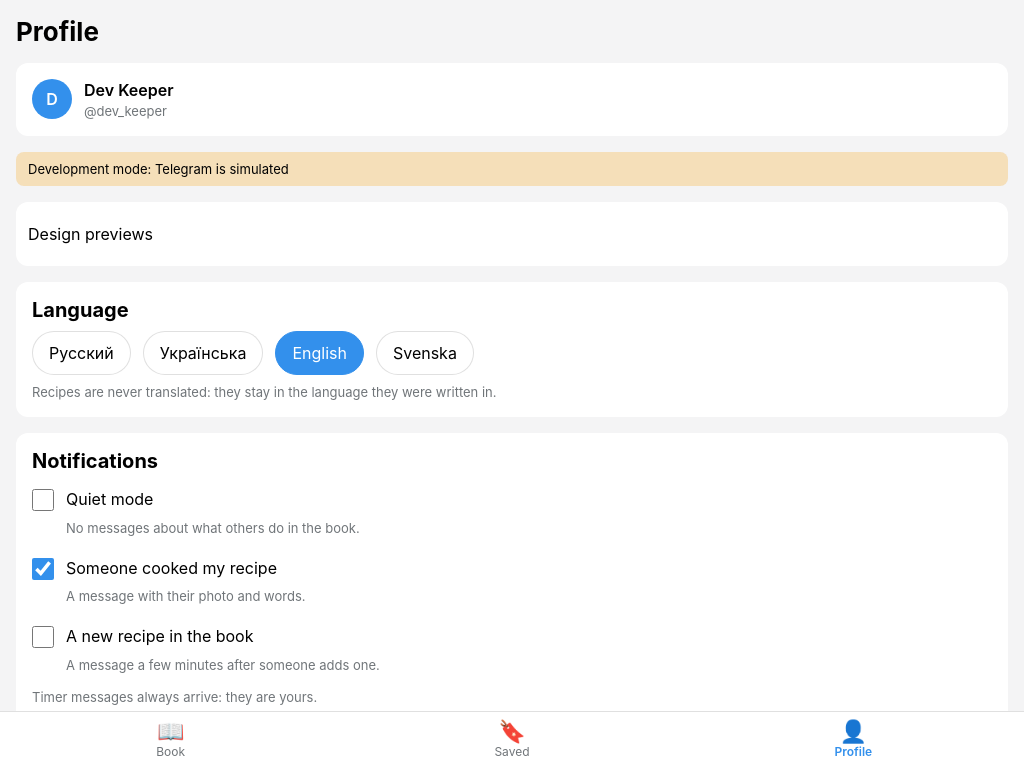
notification settings in the Profile › a switch saves at once (only that setting) and stays as chosen
Click the checkbox labelled "A new recipe in the book" at {"x": 43, "y": 637}, box [32,626,54,648]
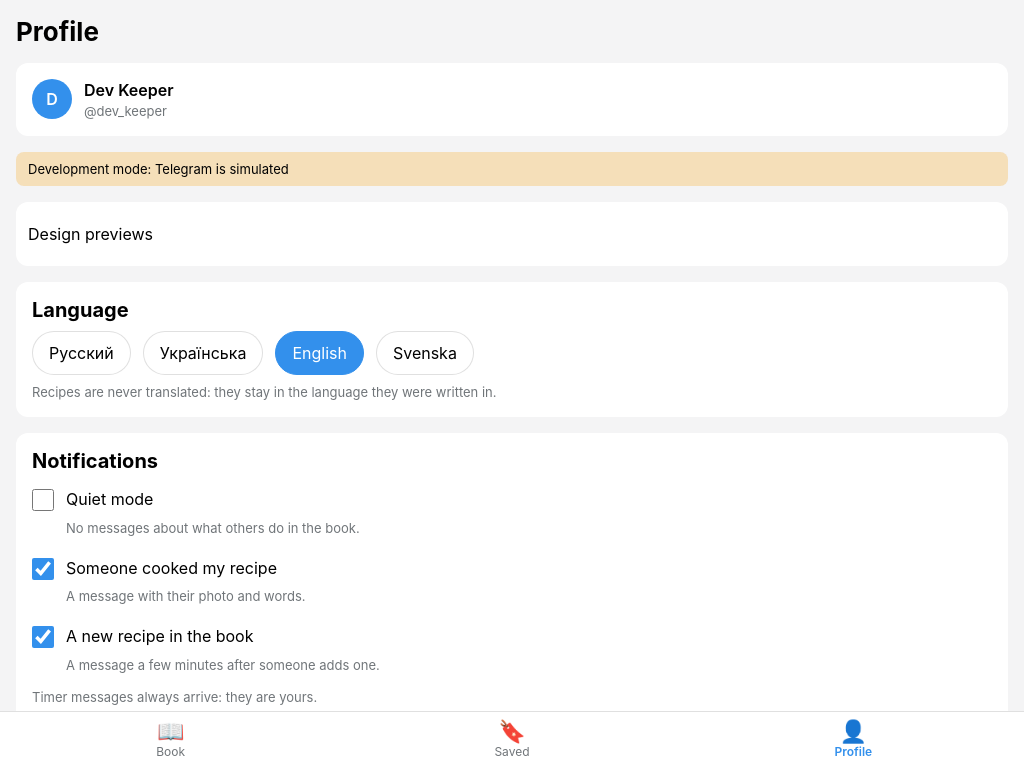
Expected: the checkbox labelled "A new recipe in the book" is checked, [32,626,54,648]
Note: Away and back: still on.
Click the link "📖 Book" at {"x": 171, "y": 738}, box [156,718,185,759]
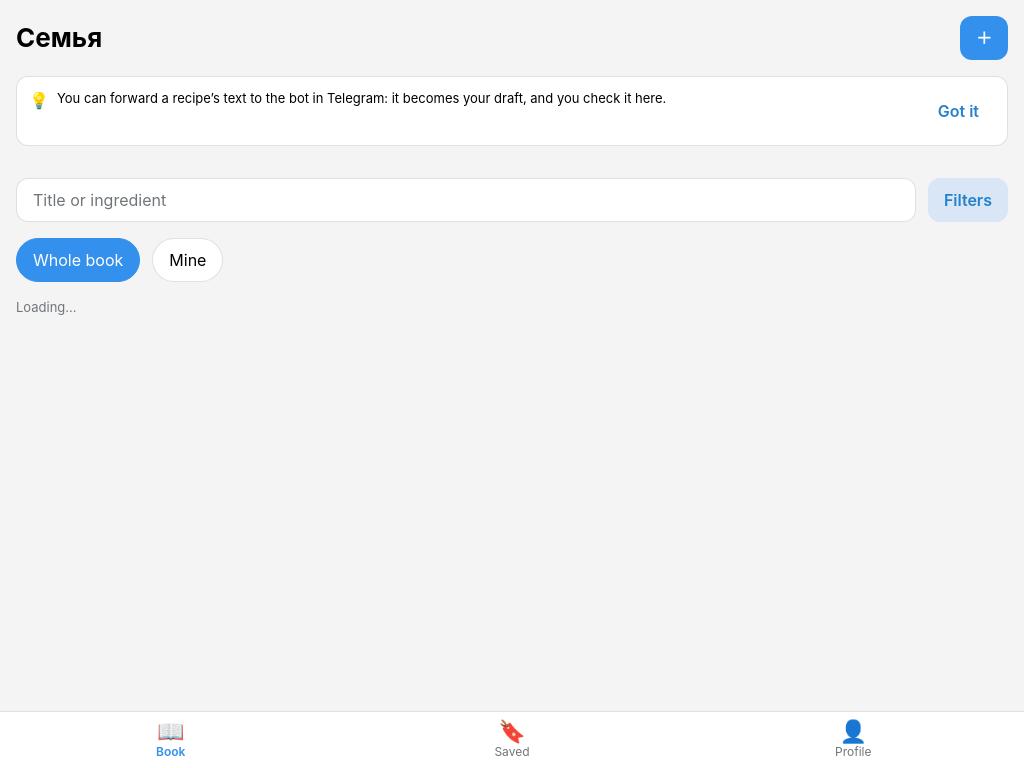
Click the link "👤 Profile" at {"x": 853, "y": 738}, box [835,718,872,759]
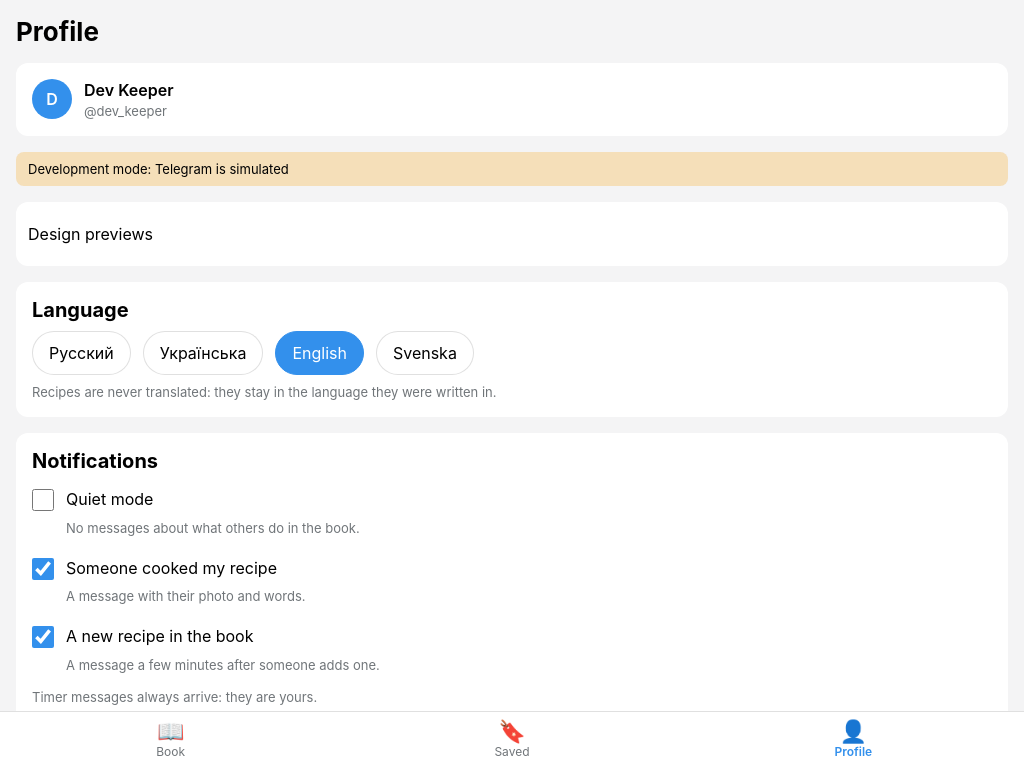
Expected: the checkbox labelled "A new recipe in the book" is checked, [32,626,54,648]
